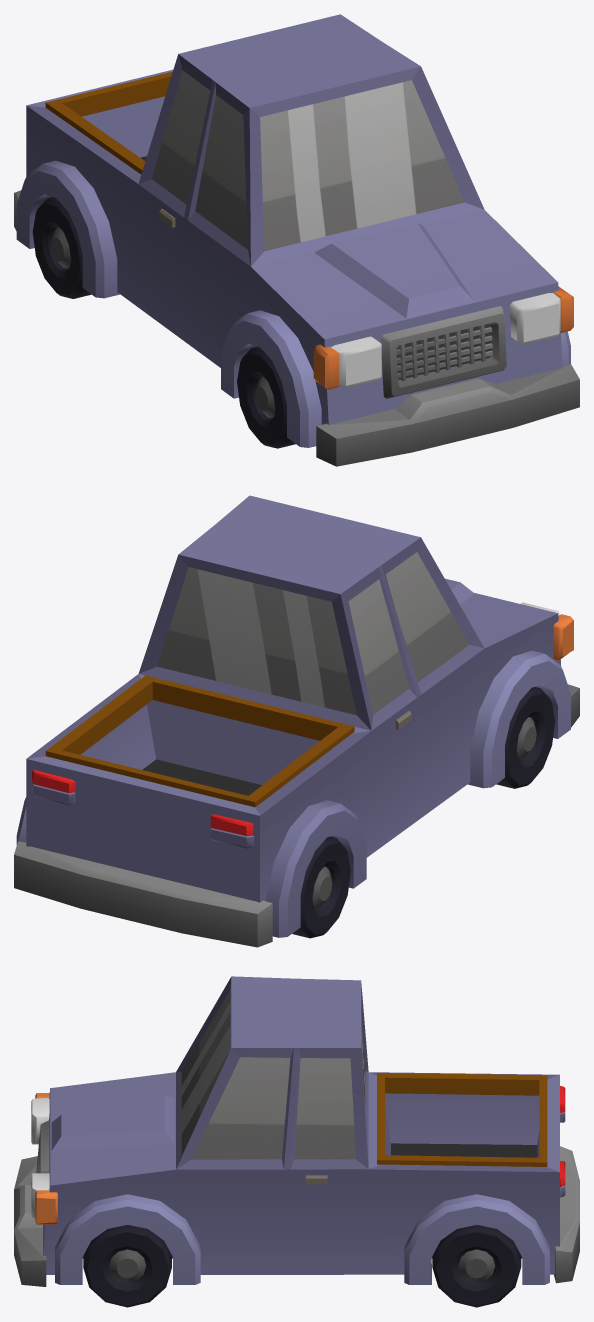
File: PickUp_14.fbx
3 renders of one model, top to bottom at view 1: azimuth 30°, elevation 25°; view 2: azimuth 150°, elevation 25°; view 3: azimuth 270°, elevation 25°, orthographic. The views are drawn at different scales.
Parts seen in each view (by area): view 1: PickUp_14, BWhel_BR, BWhel_FR; view 2: PickUp_14, BWhel_BR, BWhel_FR; view 3: PickUp_14, BWhel_BL, BWhel_FL.
Part boxes in pixels (box(x1,y1,x2,y2)): PickUp_14: box(14, 14, 579, 466); BWhel_BR: box(32, 197, 91, 298); BWhel_FR: box(237, 346, 295, 448); PickUp_14: box(14, 495, 579, 947); BWhel_BR: box(292, 836, 350, 938); BWhel_FR: box(496, 687, 554, 788); PickUp_14: box(14, 976, 579, 1286); BWhel_BL: box(432, 1225, 521, 1307); BWhel_FL: box(83, 1225, 171, 1307).
Bounding box in the file's own units: 109 × 108 × 230.
